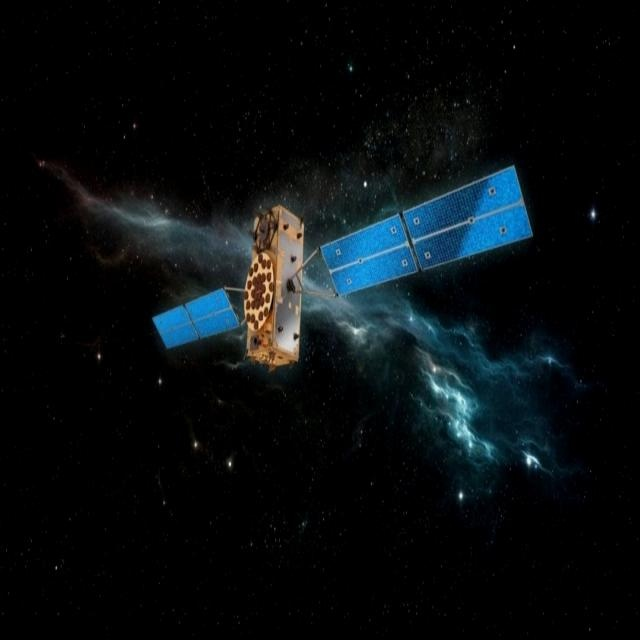satellite: (145, 146, 535, 386)
